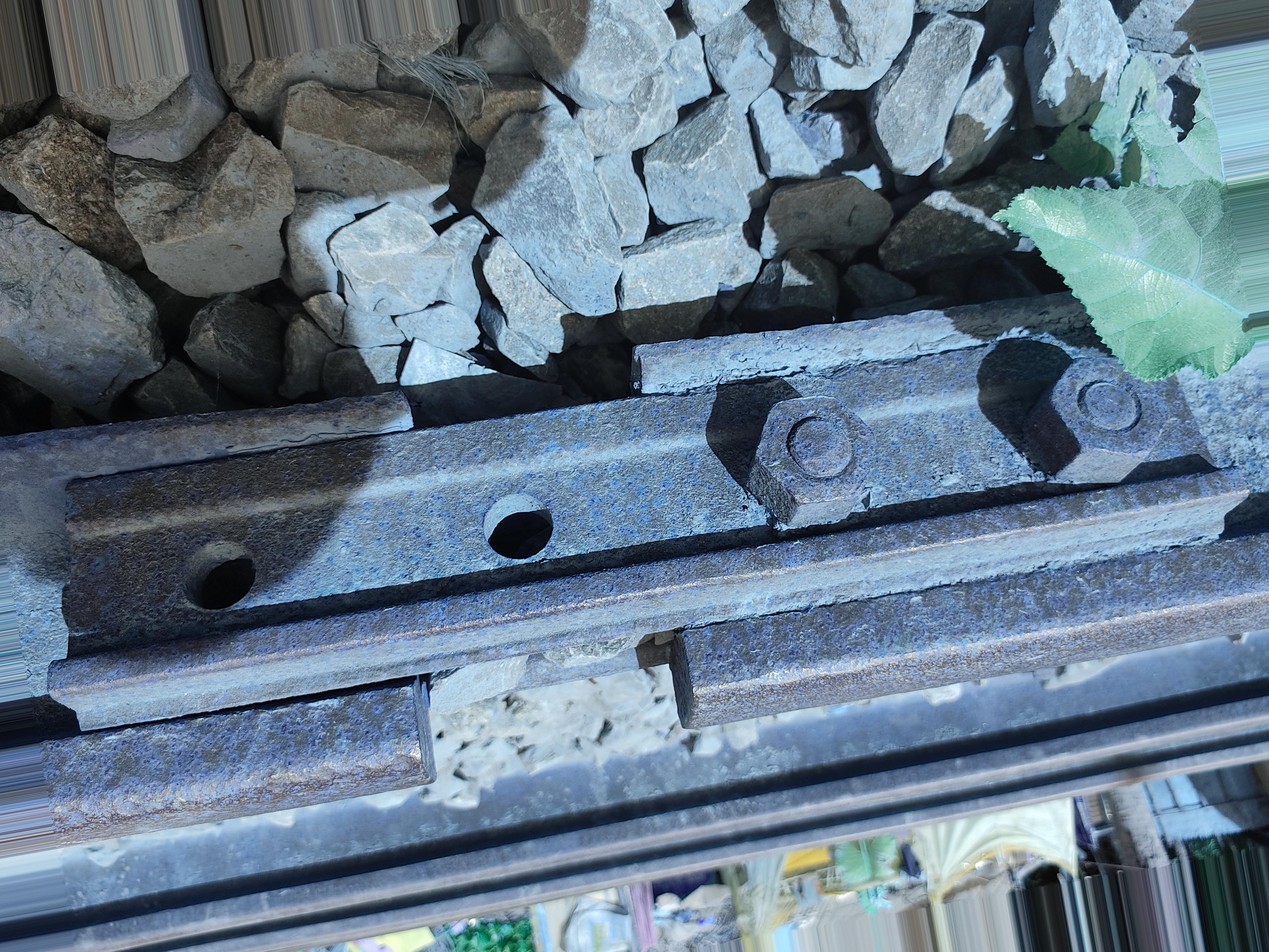railway-gap: (373, 577, 737, 835), (373, 275, 667, 510)
